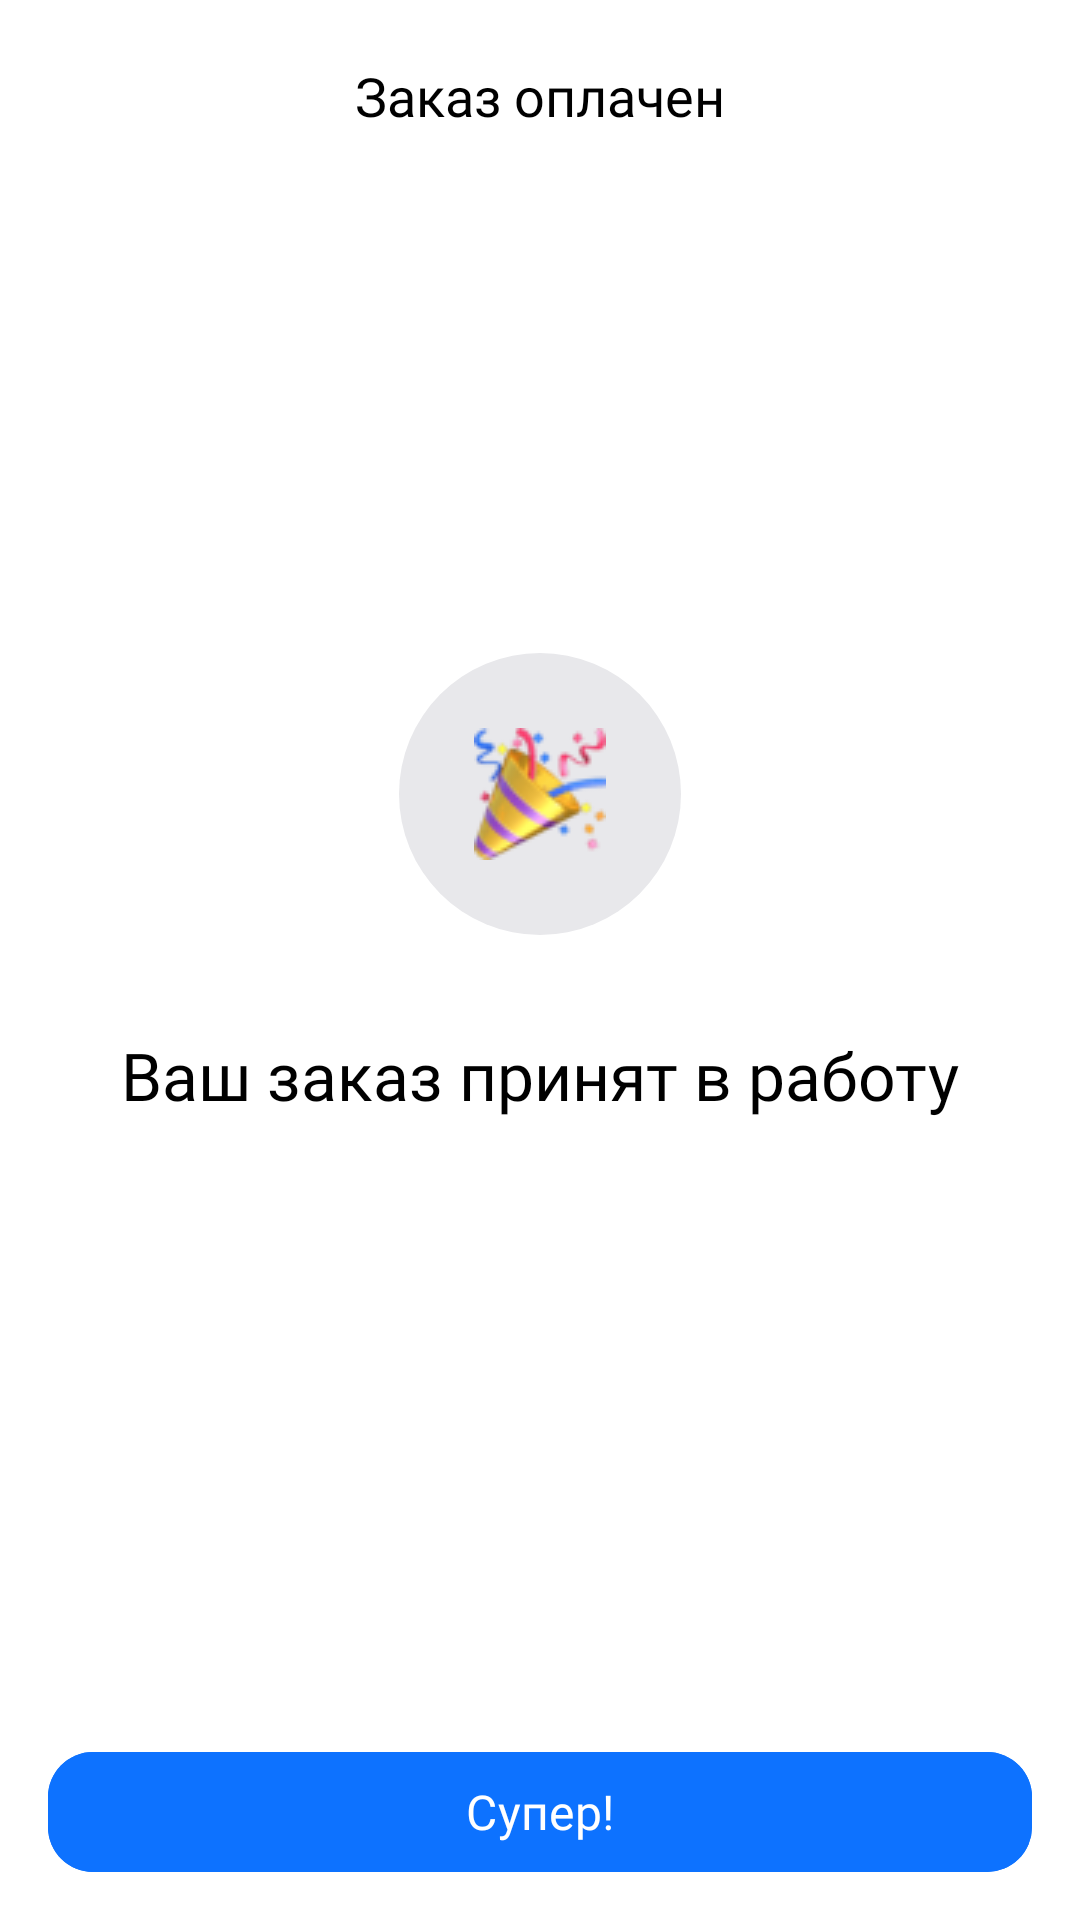

Screen size 1080 x 1920. Icon name, then its center in pixels as (x,y):
im party: (540,794)
